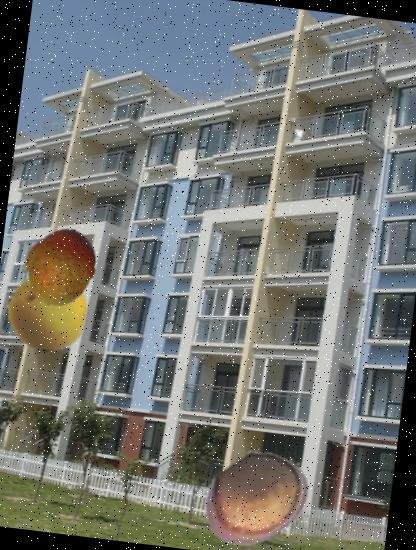Hazelnut: (192, 436, 318, 550)
Mandarine: (16, 222, 106, 312)
Peach: (2, 266, 92, 356)
